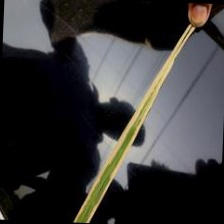Leaf_Blast: (100, 44, 172, 187)
